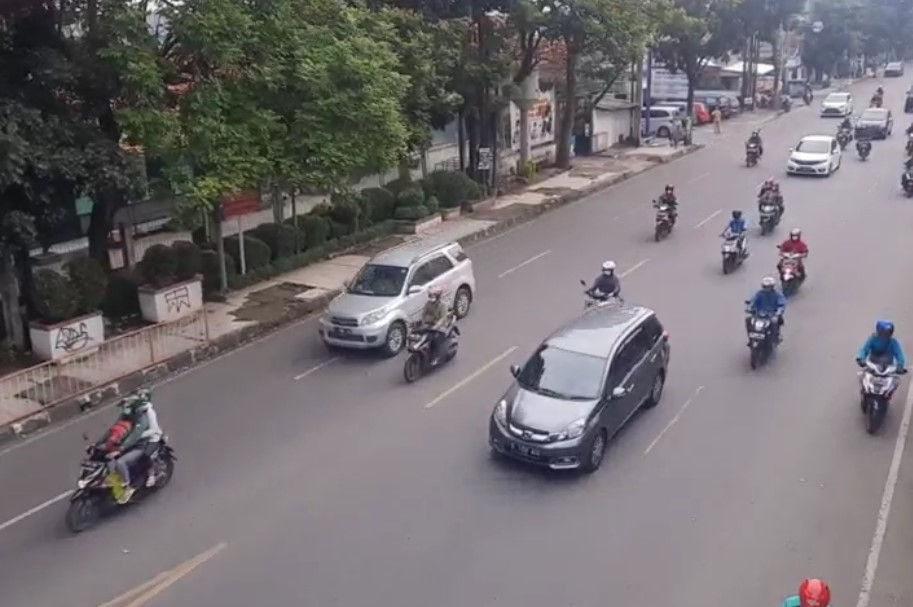motor: (61, 393, 174, 535), (849, 315, 906, 437), (403, 284, 455, 386), (742, 282, 791, 376), (711, 204, 752, 277), (776, 230, 813, 305), (648, 180, 684, 250), (751, 176, 785, 235)
